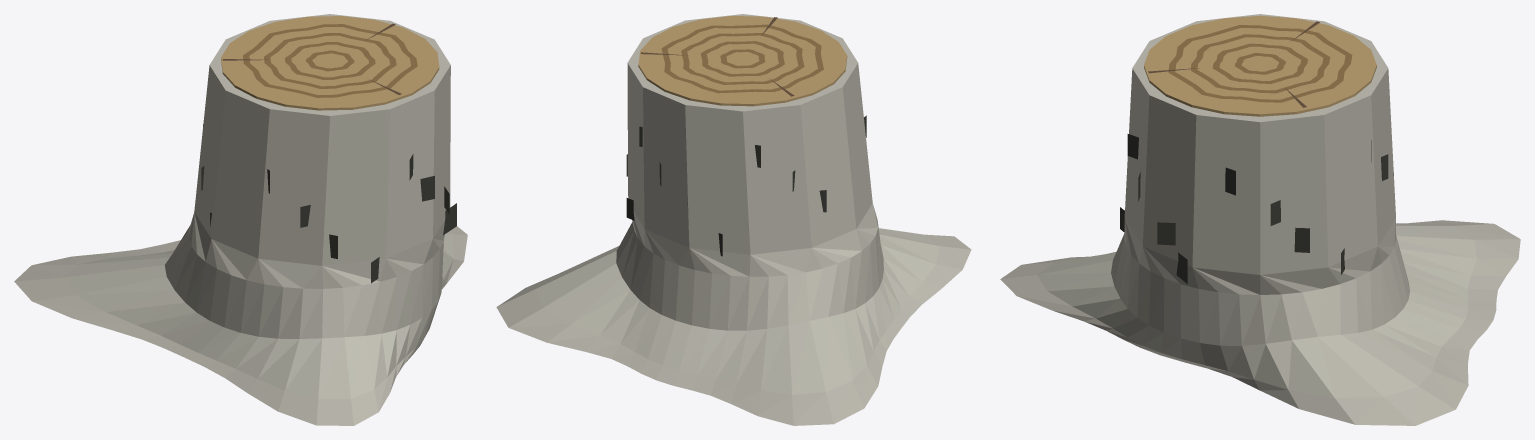
Rendered from birch_stump.glb.
3 views of the same model, side by side, from view 1: azimuth 30°, elevation 25°; view 2: azimuth 150°, elevation 25°; view 3: azimuth 270°, elevation 25° (orthographic). The views are drawn at different scales.
Parts seen in each view (by area): view 1: stump, growth_rings; view 2: stump, growth_rings; view 3: stump, growth_rings.
Part boxes in pixels (x1=…): stump: x1=14, y1=14, x2=467, y2=425; growth_rings: x1=221, y1=16, x2=439, y2=110; stump: x1=496, y1=14, x2=971, y2=425; growth_rings: x1=638, y1=16, x2=847, y2=106; stump: x1=1000, y1=14, x2=1520, y2=425; growth_rings: x1=1144, y1=15, x2=1376, y2=116.
Bounding box in the file's own units: 0.7223 × 0.4374 × 0.7723.
